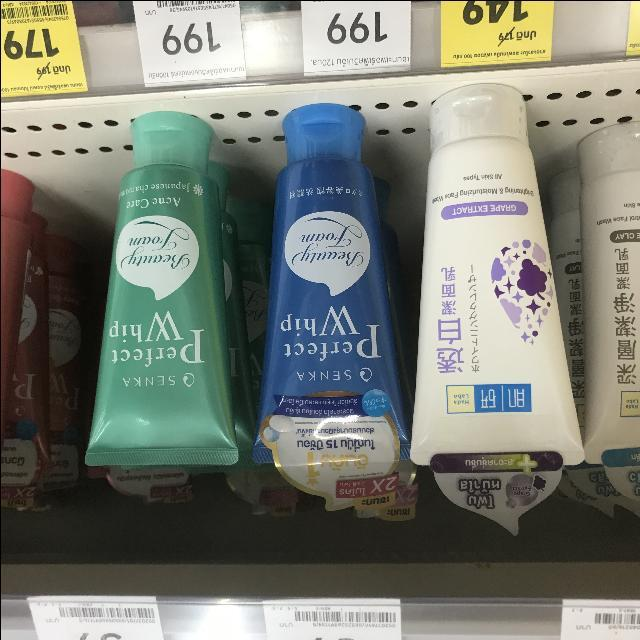Squeeze Tube: (418, 72, 582, 506), (79, 98, 246, 517), (250, 89, 410, 497), (564, 88, 640, 467)
